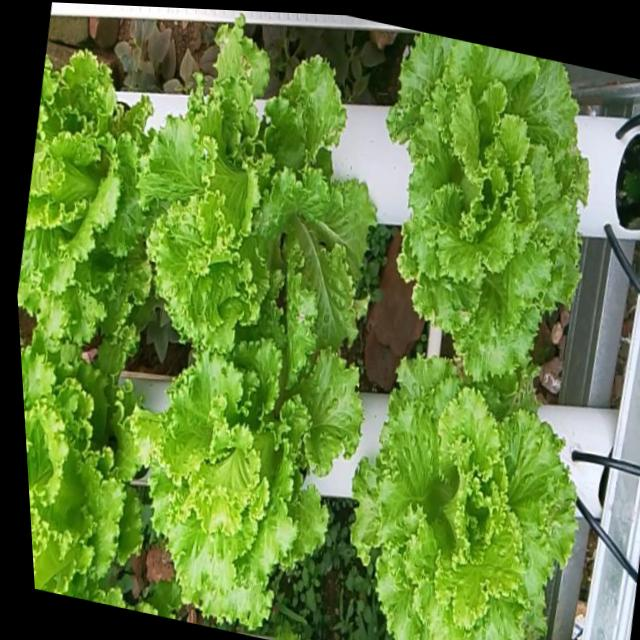Mature: (128, 18, 370, 351), (380, 31, 586, 401), (126, 317, 354, 633), (340, 362, 571, 640), (17, 37, 140, 338), (19, 324, 126, 598)
